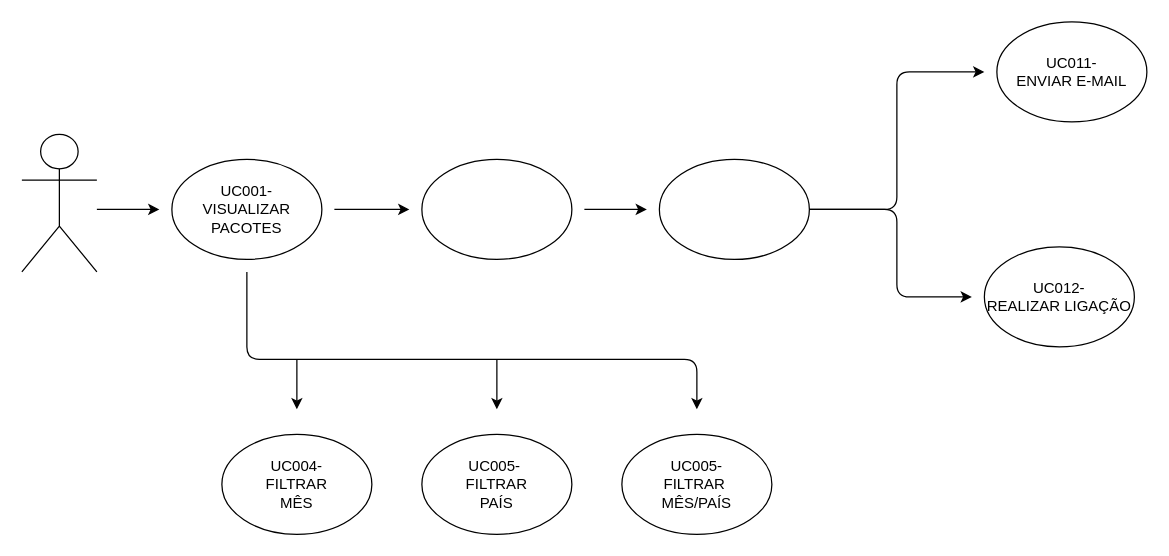
Image size: 1169x556. Some labels were removed from this diagram. The centre of each missing label's shape, as x and y in pixels:
"CLIENTE" belongs at (59,202).
"UC010- SELECIONAR PACOTES" belongs at (496,208).
"UC013- DETALHES DO PACOTES" belongs at (733,208).
